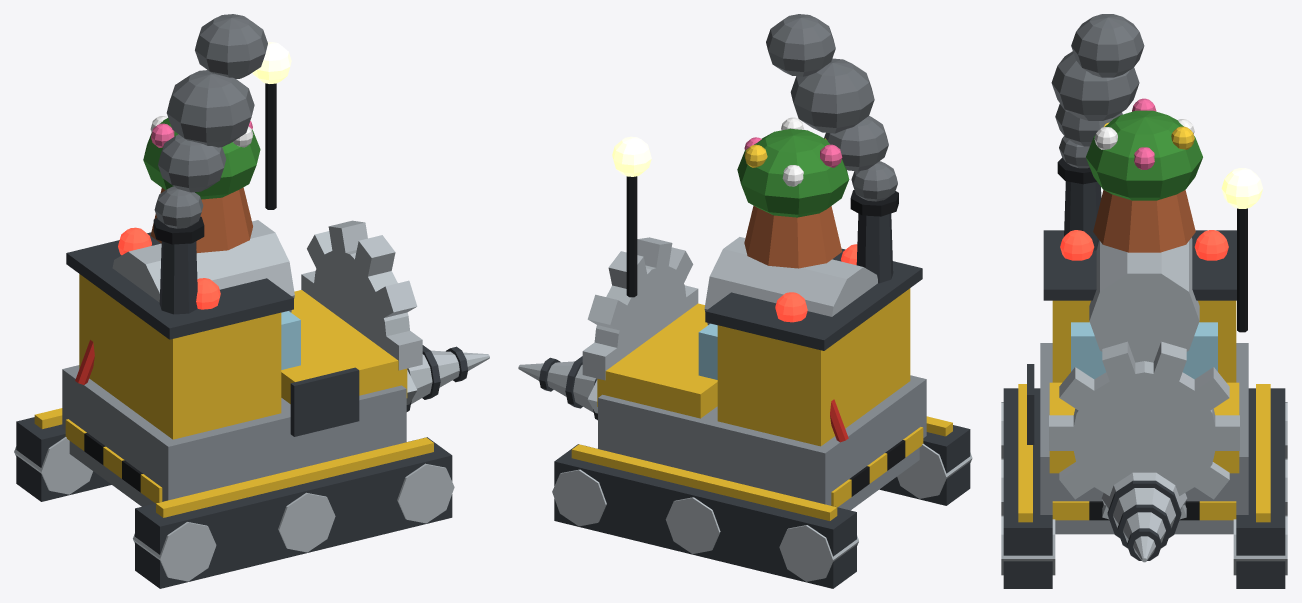
Rendered from maquina_puerto.glb.
3 renders of one model, left to right at view 1: azimuth 30°, elevation 25°; view 2: azimuth 150°, elevation 25°; view 3: azimuth 270°, elevation 25°, orthographic. The views are drawn at different scales.
Visible parts, largest first — view 1: Bloqueando_Cabina, Chasis, Oruga, Bloqueando_Techo, Bloqueando_Capo, Tanque, Bloqueando_Humo2, EngranajeDisco, Bloqueando_Guardabarros, Panel, Bloqueando_Humo3, Bloqueando_Humo1 (+20 smaller); view 2: Chasis, Bloqueando_Cabina, Oruga.001, Bloqueando_Capo, Tanque, Reconvertida_Hojas, Bloqueando_Techo, Reconvertida_Maceta, Bloqueando_Humo2, EngranajeDisco, Bloqueando_Guardabarros.001, Bloqueando_Humo3 (+18 smaller); view 3: EngranajeDisco, Tanque, Reconvertida_Hojas, Chasis, Oruga.001, Oruga, Bloqueando_Techo, Reconvertida_Maceta, Bloqueando_Cabina, Bloqueando_Humo2, Bloqueando_Humo3, Broca (+31 smaller).
Boxes of the visible parts, box(x1,y1,x2,y2) form: Bloqueando_Cabina: box(79, 274, 281, 439); Chasis: box(62, 365, 406, 506); Oruga: box(135, 437, 452, 588); Bloqueando_Techo: box(66, 232, 293, 339); Bloqueando_Capo: box(281, 290, 407, 403); Tanque: box(112, 220, 294, 312); Bloqueando_Humo2: box(166, 70, 254, 147); EngranajeDisco: box(313, 250, 409, 369); Bloqueando_Guardabarros: box(156, 437, 433, 517); Panel: box(290, 367, 359, 436); Bloqueando_Humo3: box(195, 14, 267, 78); Bloqueando_Humo1: box(158, 134, 226, 192); Chasis: box(598, 375, 926, 510); Bloqueando_Cabina: box(717, 288, 910, 446); Oruga.001: box(554, 444, 856, 588); Bloqueando_Capo: box(597, 303, 717, 418); Tanque: box(704, 237, 877, 325); Reconvertida_Hojas: box(737, 128, 849, 217); Bloqueando_Techo: box(705, 248, 922, 350); Reconvertida_Maceta: box(744, 205, 842, 268); Bloqueando_Humo2: box(790, 58, 874, 133); EngranajeDisco: box(594, 265, 687, 379); Bloqueando_Guardabarros.001: box(571, 444, 837, 520); Bloqueando_Humo3: box(766, 14, 835, 76); EngranajeDisco: box(1071, 361, 1217, 495); Tanque: box(1089, 237, 1199, 362); Reconvertida_Hojas: box(1086, 110, 1202, 200); Chasis: box(1040, 343, 1248, 534); Oruga.001: box(1236, 388, 1285, 588); Oruga: box(1003, 388, 1052, 588); Bloqueando_Techo: box(1043, 230, 1236, 300); Reconvertida_Maceta: box(1093, 190, 1195, 252); Bloqueando_Cabina: box(1052, 300, 1236, 382); Bloqueando_Humo2: box(1051, 51, 1139, 120); Bloqueando_Humo3: box(1071, 14, 1144, 77); Broca: box(1101, 472, 1187, 562).
Size of the model in its own units: 3.71 by 4.43 by 2.34.
